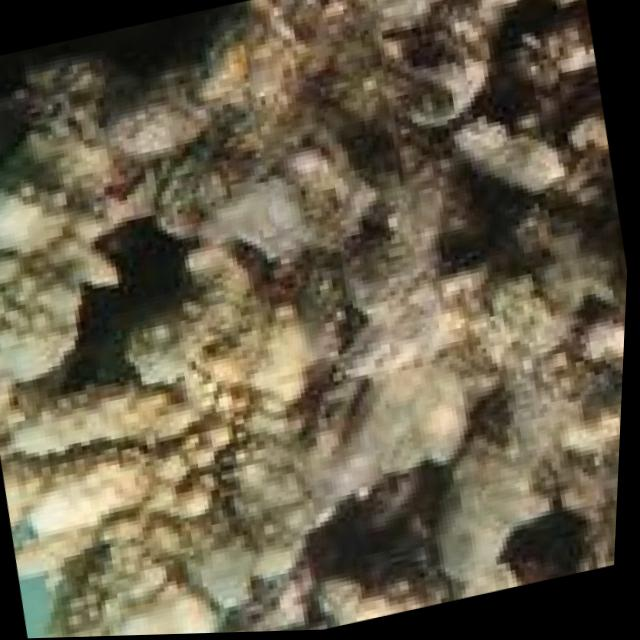Bleached Coral: (0, 249, 234, 640)
